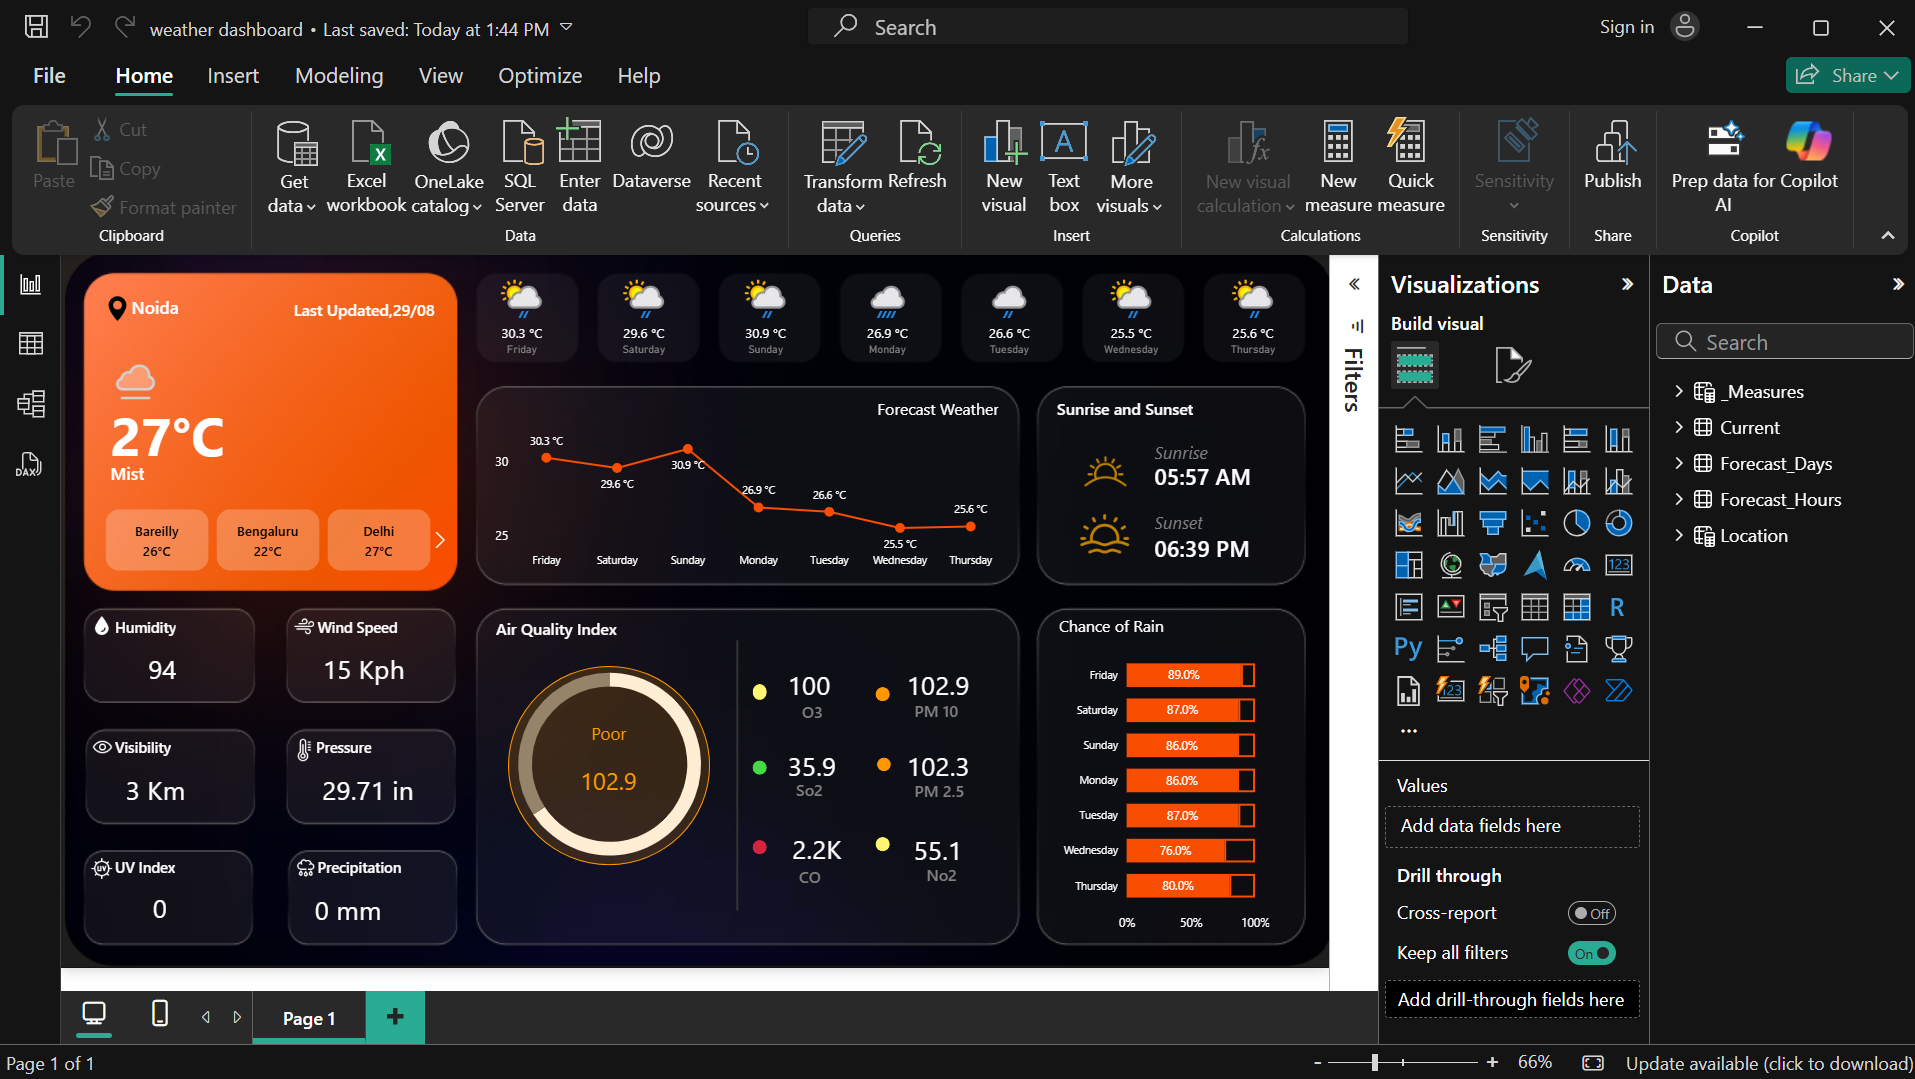

Layout of this report page (visuals, bound fields, positions):
{"tool":"powerbi","page":{"name":"Page 1","canvas":[1280,720],"ordinal":0},"visuals":[{"type":"donutChart","title":"PM 10","fields":{"Y":["_Measures.left_value_PM10","Sum(Current.current.air_quality.pm10)"]},"box":[432.9,381.5,240.7,264.1],"z":0},{"type":"shape","box":[452,415.3,204,201],"z":1000},{"type":"advancedSlicerVisual","fields":{"Values":["Location.location.name"]},"box":[19.7,251.4,378.6,72.7],"z":2000},{"type":"shape","box":[50.3,131.2,189.1,99.1],"z":3000},{"type":"shape","box":[50,171.1,327.1,98.4],"z":4000},{"type":"shape","box":[71.7,30,326.7,45],"z":5000},{"type":"shape","box":[195.3,31.8,181.7,45.4],"z":6000},{"type":"image","box":[40,36.7,35,35],"z":7000},{"type":"cardVisual","fields":{"Data":["Min(Current.current.condition.icon)"]},"box":[21.2,71.2,107.5,109],"z":8000},{"type":"image","box":[21.2,358.9,39.4,30.3],"z":9000},{"type":"image","box":[21.2,480,40.9,33.3],"z":10000},{"type":"image","box":[21.2,602.7,39.4,33.3],"z":11000},{"type":"image","box":[225.6,358.9,39.4,31.8],"z":12000},{"type":"image","box":[225.6,483,39.4,33.3],"z":13000},{"type":"image","box":[227.1,602.7,39.4,31.8],"z":14000},{"type":"shape","box":[54.5,352.8,181.7,45.4],"z":15000},{"type":"shape","box":[54.5,595.1,181.7,45.4],"z":16000},{"type":"shape","box":[54.5,473.9,181.7,45.4],"z":17000},{"type":"shape","box":[257.4,473.9,181.7,45.4],"z":18000},{"type":"shape","box":[258.9,352.8,181.7,45.4],"z":19000},{"type":"shape","box":[258.9,595.1,181.7,45.4],"z":20000},{"type":"cardVisual","fields":{"Data":["Sum(Current.current.humidity)"]},"box":[71.2,374,66.6,72.7],"z":21000},{"type":"cardVisual","fields":{"Data":["_Measures.visibility"]},"box":[48.5,496.7,113.6,72.7],"z":22000},{"type":"cardVisual","fields":{"Data":["_Measures.wind_Speed"]},"box":[234.7,374,142.3,72.7],"z":23000},{"type":"cardVisual","fields":{"Data":["_Measures.Pressure"]},"box":[246.8,496.7,172.6,72.7],"z":24000},{"type":"cardVisual","fields":{"Data":["Sum(Current.current.uv)"]},"box":[75.7,610.2,83.3,87.8],"z":25000},{"type":"cardVisual","fields":{"Data":["_Measures.rain_predict"]},"box":[239.2,617.8,151.4,72.7],"z":26000},{"type":"advancedSlicerVisual","fields":{"Values":["Forecast_Days.Day_Name"]},"box":[411.9,0,848,125.7],"z":27000},{"type":"lineChart","title":"Forecast Weather","fields":{"Y":["Sum(Forecast_Days.forecast.forecastday.day.avgtemp_c)"],"Category":["Forecast_Days.Day_Name"]},"box":[433.1,143.4,518.5,181.5],"z":28000},{"type":"shape","box":[1005,131.2,181.5,45.8],"z":29000},{"type":"shape","box":[1104.1,184.5,123.5,76.3],"z":30000},{"type":"shape","box":[1104.1,257.7,123.5,76.3],"z":31000},{"type":"image","box":[1015.7,184.5,76.3,67.1],"z":32000},{"type":"image","box":[1023.3,251.6,59.5,59.5],"z":33000},{"type":"shape","box":[1104.1,160.1,123.5,76.3],"z":34000},{"type":"shape","box":[1104.1,231.8,123.5,76.3],"z":35000},{"type":"hundredPercentStackedBarChart","title":"Chance of Rain","fields":{"Y":["Sum(Forecast_Days.forecast.forecastday.day.daily_chance_of_rain)","_Measures.left_value_rain"],"Category":["Forecast_Days.Day_Name"]},"box":[1003,363,222.6,329],"z":36000},{"type":"shape","box":[438.8,353.6,180.5,45.5],"z":37000},{"type":"cardVisual","title":"PM 10","fields":{"Data":["Sum(Current.current.air_quality.pm10)"]},"box":[836,390.9,99.5,63.3],"z":38000},{"type":"shape","box":[861.4,436.1,54.3,47.1],"z":39000},{"type":"shape","box":[745.6,604.4,181,45.2],"z":40000},{"type":"shape","box":[861.4,517.6,182.8,45.2],"z":41000},{"type":"shape","box":[874,602.6,48.9,45.2],"z":42000},{"type":"shape","box":[747.4,437.9,182.8,45.2],"z":43000},{"type":"shape","box":[741.9,515.7,181,45.2],"z":44000},{"type":"cardVisual","title":"PM 10","fields":{"Data":["Sum(Current.current.air_quality.pm2_5)"]},"box":[828.8,472.3,115.8,63.3],"z":45000},{"type":"cardVisual","title":"PM 10","fields":{"Data":["Sum(Current.current.air_quality.o3)"]},"box":[706,390.9,99.5,63.3],"z":46000},{"type":"cardVisual","title":"PM 10","fields":{"Data":["Sum(Current.current.air_quality.no2)"]},"box":[836,557.4,99.5,63.3],"z":47000},{"type":"cardVisual","title":"PM 10","fields":{"Data":["Sum(Current.current.air_quality.so2)"]},"box":[709.4,472.3,99.5,63.3],"z":48000},{"type":"cardVisual","title":"PM 10","fields":{"Data":["Sum(Current.current.air_quality.co)"]},"box":[702.1,555.6,121.2,63.3],"z":49000},{"type":"shape","box":[698.5,432.5,14.5,16.3],"z":50000},{"type":"shape","box":[698.5,510.3,14.5,14.5],"z":51000},{"type":"shape","box":[698.5,589.9,14.5,14.5],"z":52000},{"type":"shape","box":[821.6,588.1,14.5,14.5],"z":53000},{"type":"shape","box":[823.4,506.7,14,14],"z":54000},{"type":"shape","box":[821.6,436.1,14.5,14.5],"z":55000},{"type":"shape","box":[557.6,388.9,250.9,272.9],"z":56000},{"type":"cardVisual","fields":{"Data":["Sum(Current.current.air_quality.pm10)"]},"box":[496,471,113,91],"z":57000}]}

Visuals, with their boxes on the page's 1280x720 design canvas (x1, y1, x2, y2). These are canvas units, not pixel positions in the 1915x1079 screenshot, which may show the page scaled, cropped or inside an application window:
"PM 10" donutChart: <box>433,382,674,646</box>
shape: <box>452,415,656,616</box>
advancedSlicerVisual - Location.location.name: <box>20,251,398,324</box>
shape: <box>50,131,239,230</box>
shape: <box>50,171,377,270</box>
shape: <box>72,30,398,75</box>
shape: <box>195,32,377,77</box>
image: <box>40,37,75,72</box>
cardVisual - Min(Current.current.condition.icon): <box>21,71,129,180</box>
image: <box>21,359,61,389</box>
image: <box>21,480,62,513</box>
image: <box>21,603,61,636</box>
image: <box>226,359,265,391</box>
image: <box>226,483,265,516</box>
image: <box>227,603,266,634</box>
shape: <box>54,353,236,398</box>
shape: <box>54,595,236,640</box>
shape: <box>54,474,236,519</box>
shape: <box>257,474,439,519</box>
shape: <box>259,353,441,398</box>
shape: <box>259,595,441,640</box>
cardVisual - Sum(Current.current.humidity): <box>71,374,138,447</box>
cardVisual - _Measures.visibility: <box>48,497,162,569</box>
cardVisual - _Measures.wind_Speed: <box>235,374,377,447</box>
cardVisual - _Measures.Pressure: <box>247,497,419,569</box>
cardVisual - Sum(Current.current.uv): <box>76,610,159,698</box>
cardVisual - _Measures.rain_predict: <box>239,618,391,690</box>
advancedSlicerVisual - Forecast_Days.Day_Name: <box>412,0,1260,126</box>
"Forecast Weather" lineChart: <box>433,143,952,325</box>
shape: <box>1005,131,1186,177</box>
shape: <box>1104,184,1228,261</box>
shape: <box>1104,258,1228,334</box>
image: <box>1016,184,1092,252</box>
image: <box>1023,252,1083,311</box>
shape: <box>1104,160,1228,236</box>
shape: <box>1104,232,1228,308</box>
"Chance of Rain" hundredPercentStackedBarChart: <box>1003,363,1226,692</box>
shape: <box>439,354,619,399</box>
"PM 10" cardVisual: <box>836,391,936,454</box>
shape: <box>861,436,916,483</box>
shape: <box>746,604,927,650</box>
shape: <box>861,518,1044,563</box>
shape: <box>874,603,923,648</box>
shape: <box>747,438,930,483</box>
shape: <box>742,516,923,561</box>
"PM 10" cardVisual: <box>829,472,945,536</box>
"PM 10" cardVisual: <box>706,391,806,454</box>
"PM 10" cardVisual: <box>836,557,936,621</box>
"PM 10" cardVisual: <box>709,472,809,536</box>
"PM 10" cardVisual: <box>702,556,823,619</box>
shape: <box>698,432,713,449</box>
shape: <box>698,510,713,525</box>
shape: <box>698,590,713,604</box>
shape: <box>822,588,836,603</box>
shape: <box>823,507,837,521</box>
shape: <box>822,436,836,451</box>
shape: <box>558,389,808,662</box>
cardVisual - Sum(Current.current.air_quality.pm10): <box>496,471,609,562</box>
